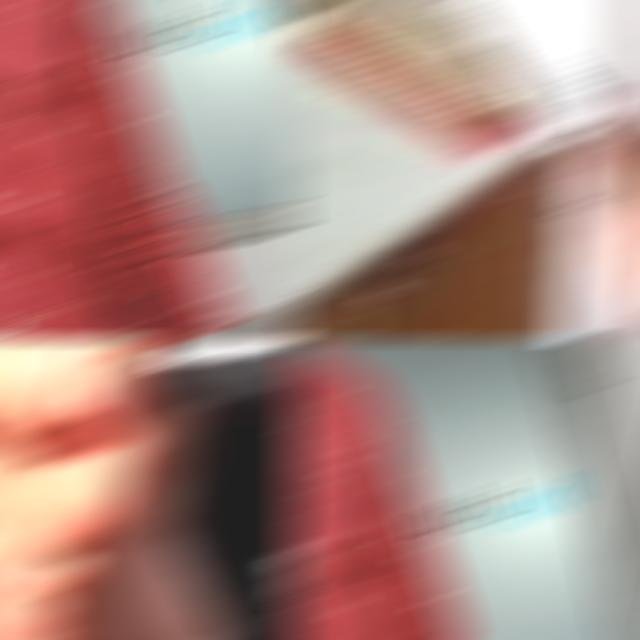Knife: (148, 342, 304, 402)
Knife_Handle: (442, 3, 640, 296), (0, 342, 304, 495)
